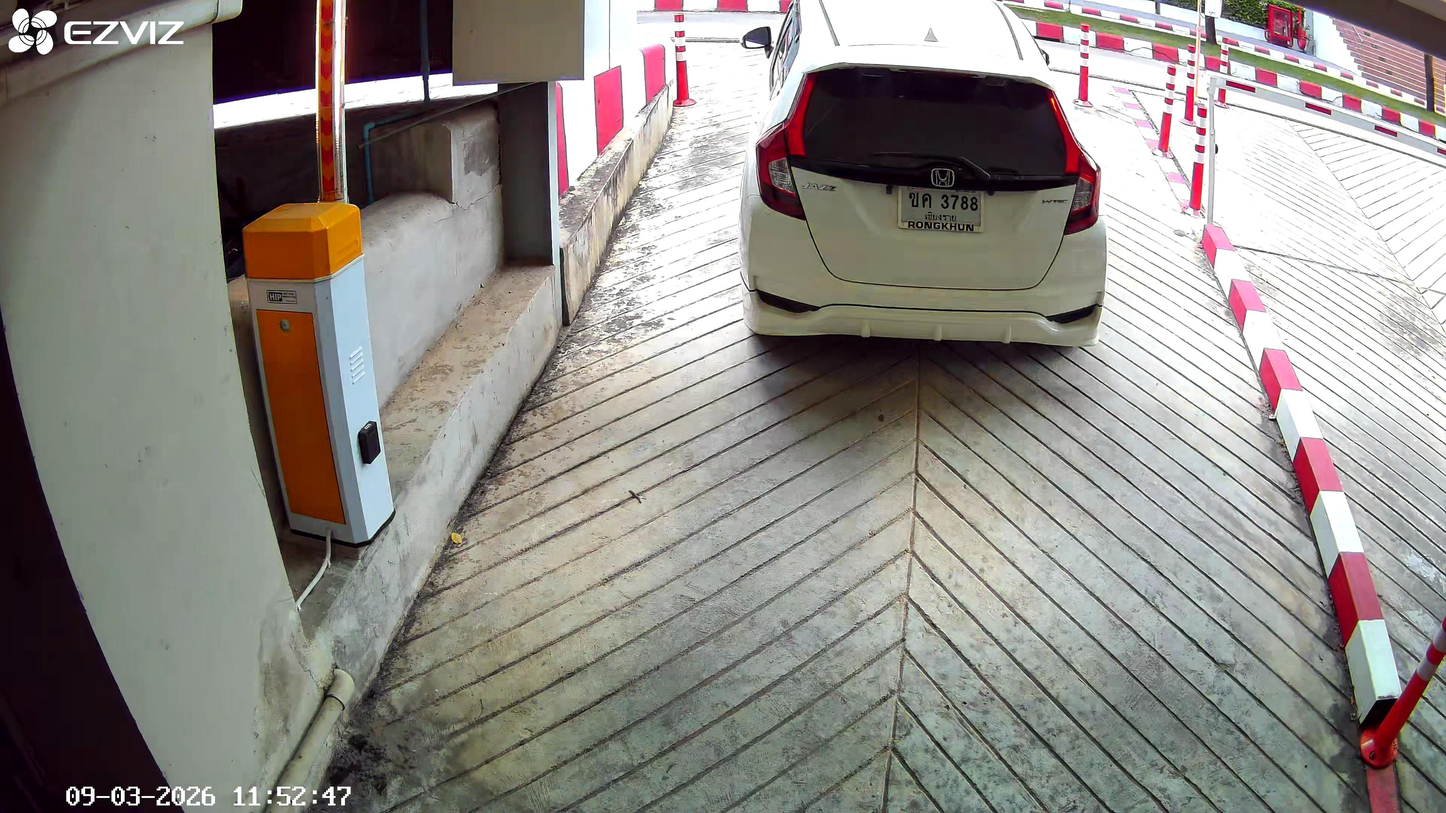car: (740, 0, 1107, 356)
license-plate: (894, 181, 985, 233)
